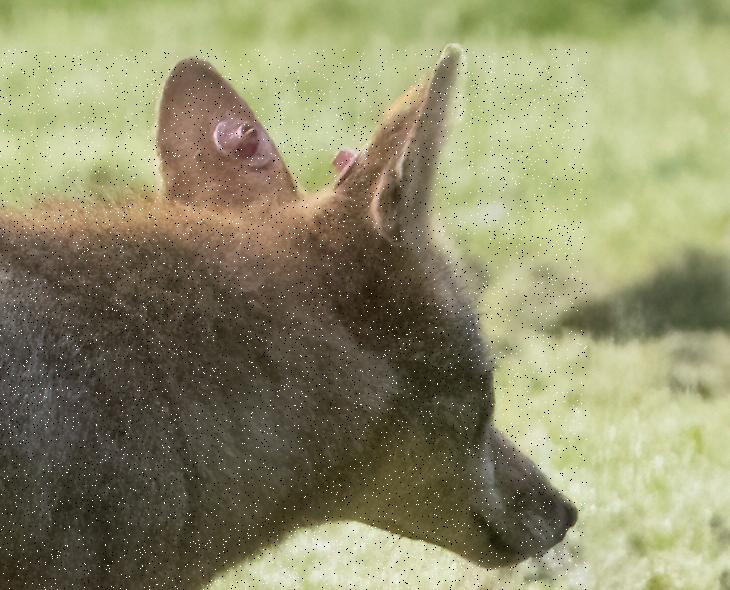Coyote: (0, 49, 587, 590)
